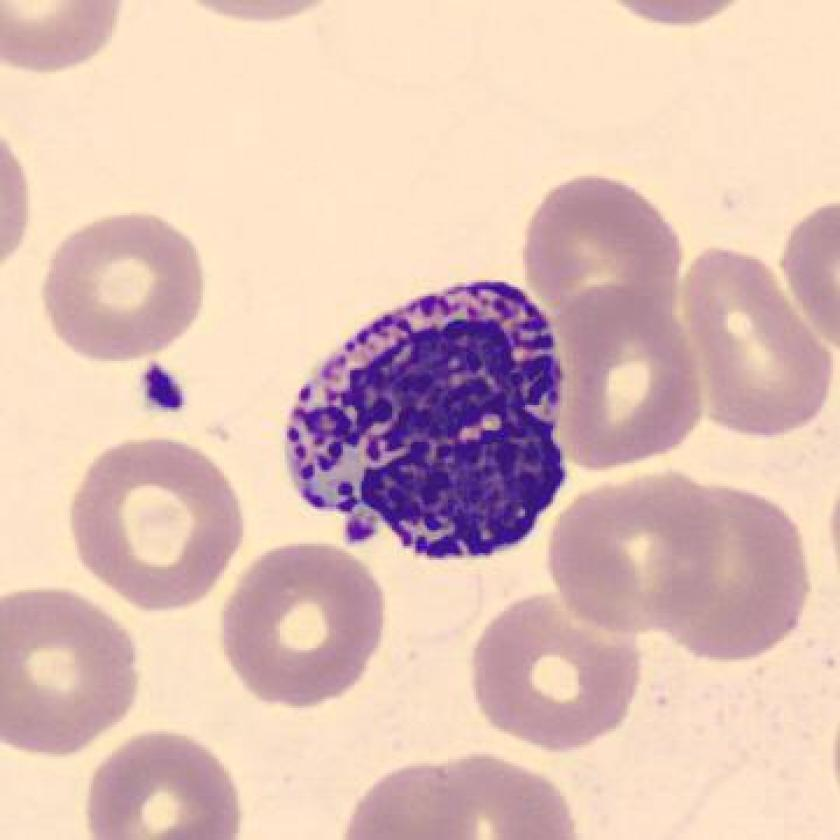basophil: (276, 272, 587, 577)
